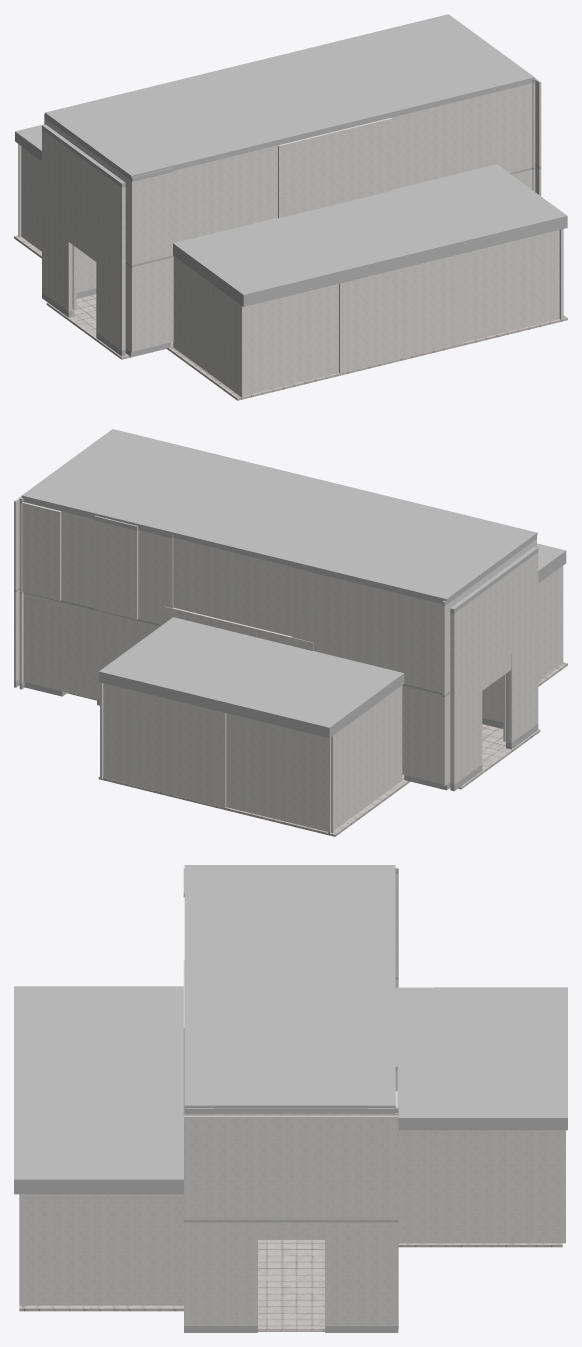
Rendered from scp_room_1025.dae.
3 renders of one model, top to bottom at view 1: azimuth 30°, elevation 25°; view 2: azimuth 150°, elevation 25°; view 3: azimuth 270°, elevation 25°, orthographic. The views are drawn at different scales.
Visible parts, largest first — view 1: SCP Small Room.006, SCP Small Room.010, SCP Small Room.007, SCP Small Room.013, SCP Small Room.005; view 2: SCP Small Room.006, SCP Small Room.010, SCP Small Room.007, SCP Small Room.013, SCP Small Room.005; view 3: SCP Small Room.010, SCP Small Room.006, SCP Small Room.013, SCP Small Room.007, SCP Small Room.005.
Boxes of the visible parts, x1,y1,x2,y2 form: SCP Small Room.006: (18, 18, 563, 397); SCP Small Room.010: (15, 14, 567, 306); SCP Small Room.007: (42, 78, 535, 356); SCP Small Room.013: (14, 235, 567, 400); SCP Small Room.005: (42, 164, 541, 352); SCP Small Room.006: (14, 434, 563, 833); SCP Small Room.010: (21, 429, 566, 738); SCP Small Room.007: (14, 497, 538, 791); SCP Small Room.013: (67, 662, 567, 836); SCP Small Room.005: (14, 588, 538, 786); SCP Small Room.010: (14, 865, 567, 1194); SCP Small Room.006: (19, 874, 565, 1325); SCP Small Room.013: (19, 1240, 562, 1331); SCP Small Room.007: (183, 868, 398, 1332); SCP Small Room.005: (184, 977, 398, 1327).
Size of the model in its own units: 43.3 by 40.88 by 18.4.
